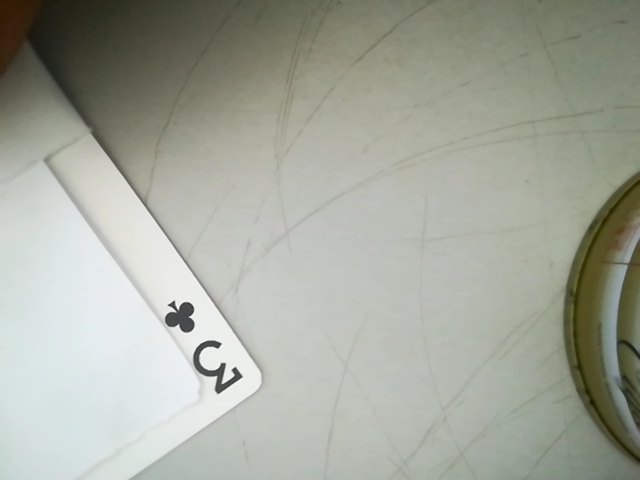mh 3: (151, 288, 249, 409)
